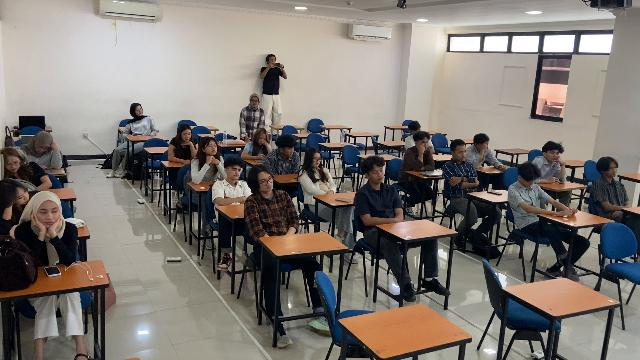bosan: (41, 204, 59, 228), (15, 188, 30, 206), (259, 174, 273, 191), (370, 167, 384, 184), (6, 156, 20, 172), (549, 148, 561, 163), (456, 145, 466, 161), (230, 165, 241, 179), (607, 163, 618, 177), (206, 142, 217, 154), (37, 145, 48, 155), (183, 130, 192, 142), (313, 153, 321, 166), (420, 139, 428, 151), (286, 146, 294, 157), (259, 135, 266, 145)
